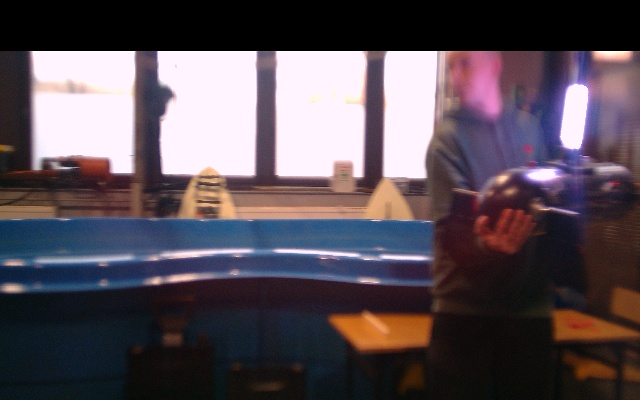white: (561, 85, 588, 149)
